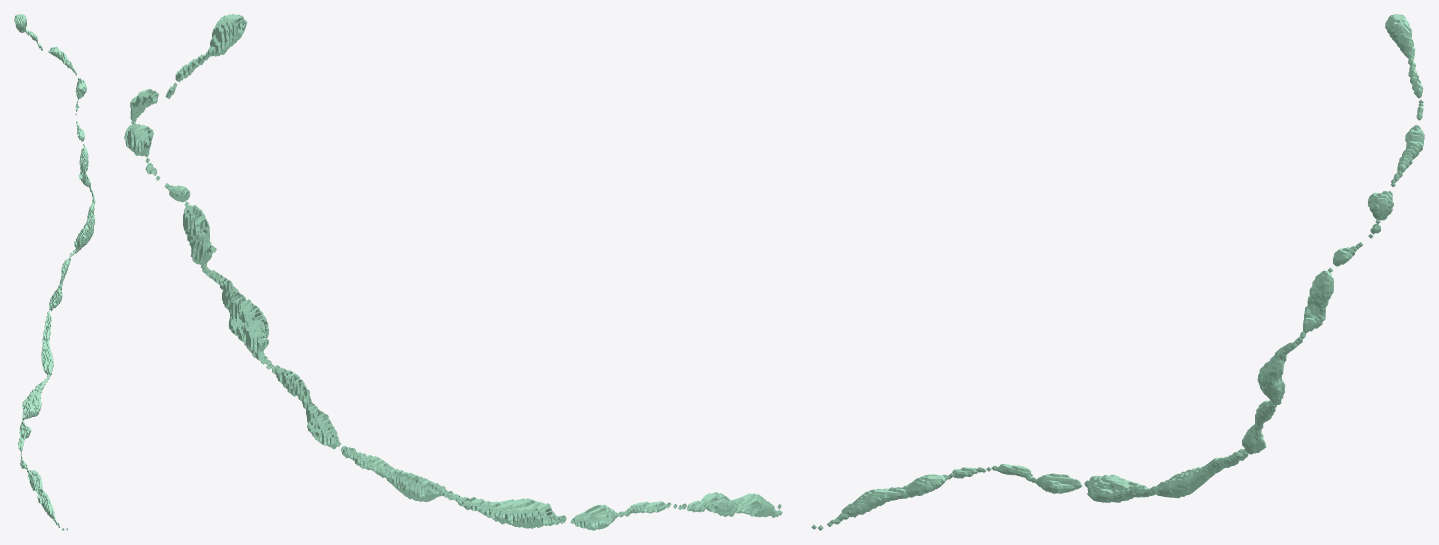
The model's file is SVV_ASIR.gltf.
The picture shows the model from 3 angles, left to right: view 1: azimuth 30°, elevation 25°; view 2: azimuth 150°, elevation 25°; view 3: azimuth 270°, elevation 25°; orthographic projection. The views are drawn at different scales.
Parts seen in each view (by area): view 1: ASIR; view 2: ASIR; view 3: ASIR.
Boxes of the visible parts, box(x1,y1,x2,y2) form: ASIR: box(14, 14, 95, 530); ASIR: box(124, 14, 782, 530); ASIR: box(811, 14, 1424, 530).
Bounding box in the file's own units: 91548 × 164240 × 147712.
